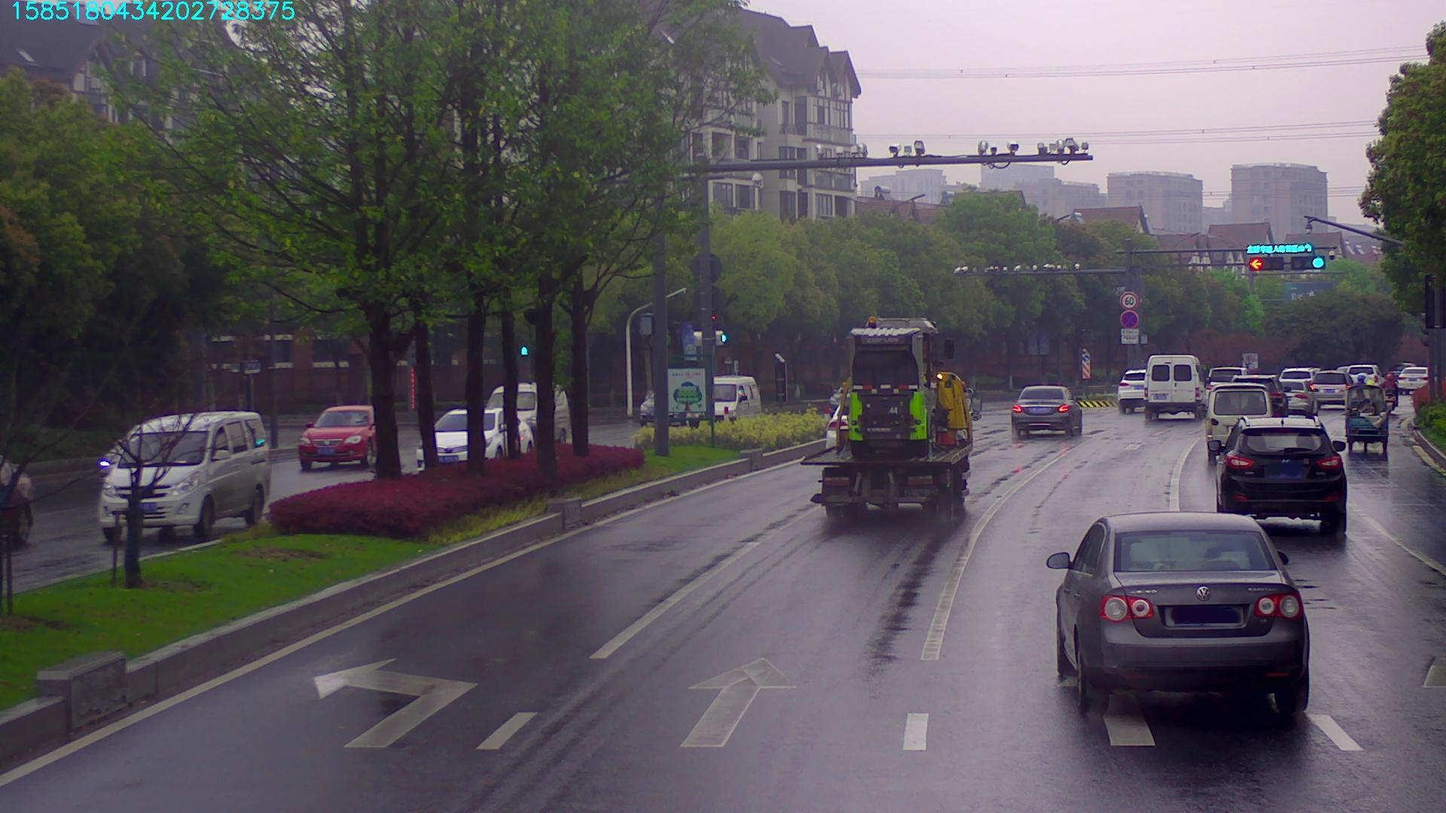green: (1291, 253, 1325, 270)
red: (1249, 255, 1280, 271)
wait_on: (1243, 239, 1314, 253)
